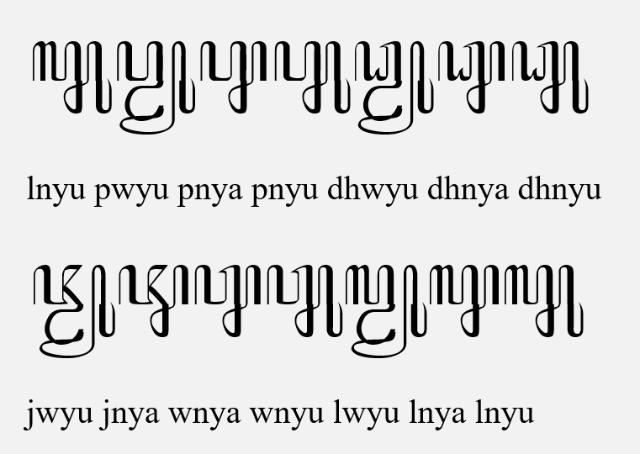dhny: (437, 40, 505, 116)
dhnyu: (511, 40, 589, 114)
dhwyu: (354, 40, 434, 134)
jny: (119, 264, 190, 338)
jwyu: (32, 264, 116, 358)
lny: (429, 264, 499, 338)
lnyu: (32, 40, 112, 114), (504, 264, 584, 338)
lwyu: (345, 264, 427, 358)
pny: (200, 41, 268, 114)
pnyu: (274, 41, 352, 114)
pwyu: (116, 41, 196, 136)
wny: (194, 264, 262, 338)
wnyu: (266, 264, 344, 338)
